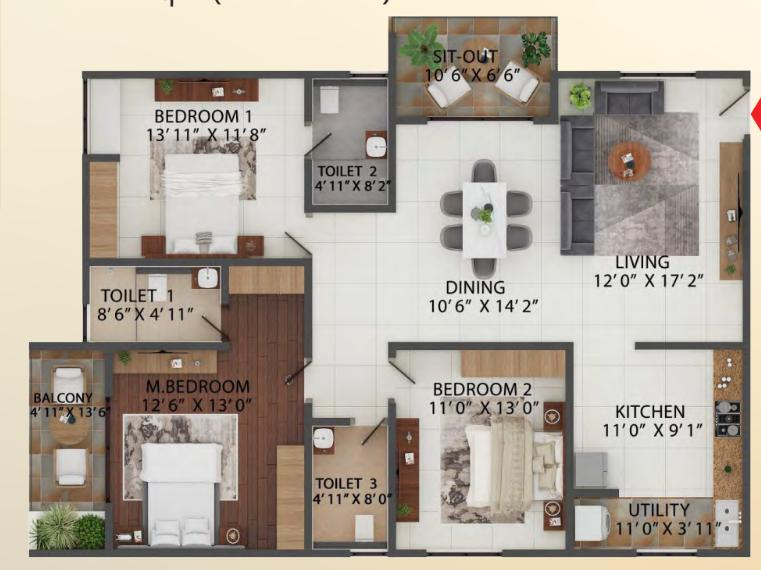Balcony: (34, 341, 114, 554), (390, 17, 552, 119)
Bed: (458, 419, 560, 509), (139, 446, 223, 546), (160, 155, 243, 255)
Bedroom: (114, 261, 311, 548), (86, 74, 311, 256), (390, 353, 570, 558)
Dining Room: (394, 122, 558, 347), (313, 211, 389, 421)
Dining table: (428, 160, 544, 295)
Living Room: (556, 72, 742, 347)
Sofa: (562, 114, 601, 190), (559, 185, 599, 255), (595, 82, 666, 116)
Wardrobe: (276, 445, 305, 548), (88, 161, 118, 257), (228, 263, 306, 294), (460, 353, 565, 376)
commode: (355, 514, 375, 542), (147, 273, 166, 301), (320, 86, 339, 114)
door: (388, 363, 424, 396), (308, 126, 332, 157), (283, 356, 298, 404)
fridge: (575, 451, 608, 486)
kitchen-slab: (712, 348, 742, 499)
sink: (715, 499, 740, 548), (314, 428, 334, 449), (366, 137, 386, 157), (198, 269, 218, 288)
stove: (715, 401, 740, 436), (716, 402, 740, 434)
toilet: (308, 75, 395, 211), (310, 419, 395, 551), (88, 263, 224, 343)
tv: (114, 342, 218, 377), (393, 417, 427, 520), (722, 142, 747, 277), (158, 71, 260, 99)
washing-machine: (575, 505, 614, 541)
